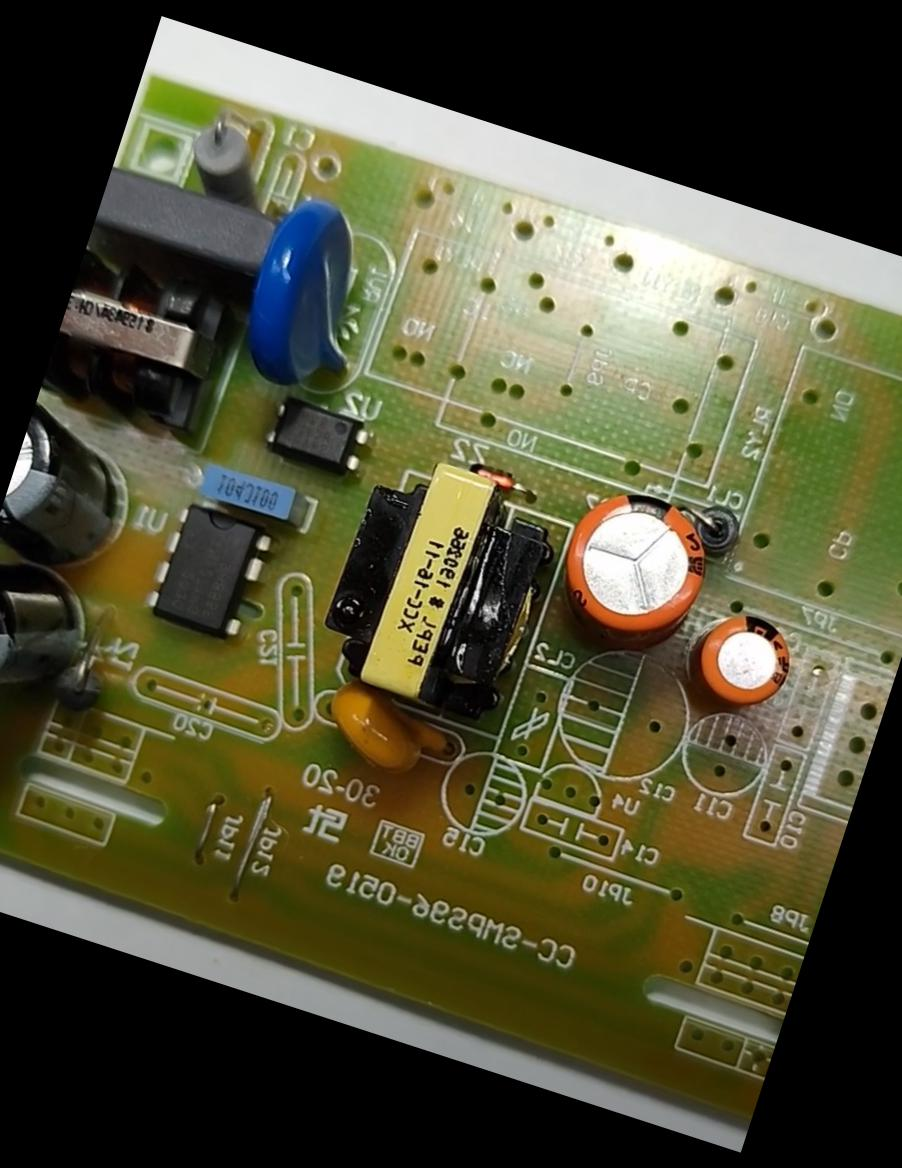Cap1: (542, 471, 733, 660)
Cap2: (681, 596, 808, 726)
Cap3: (0, 392, 154, 594)
Cap4: (0, 549, 112, 748)
MOSFET: (140, 491, 276, 645)
Mov: (206, 175, 404, 414)
Resistor: (168, 102, 286, 216)
Transformer: (304, 433, 581, 737), (37, 237, 258, 452)
